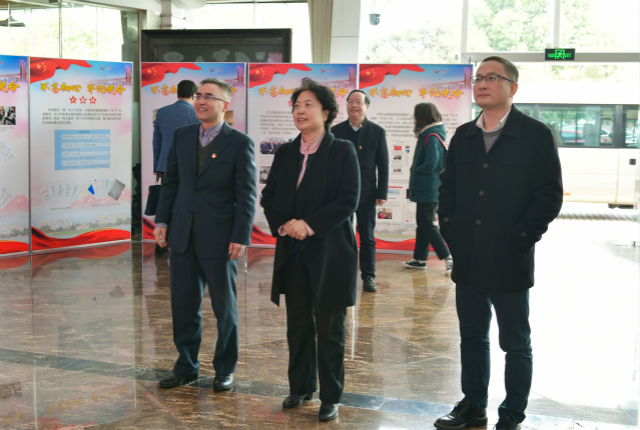noWear: (472, 67, 510, 112), (290, 95, 323, 135), (194, 87, 225, 123), (346, 94, 370, 119)
